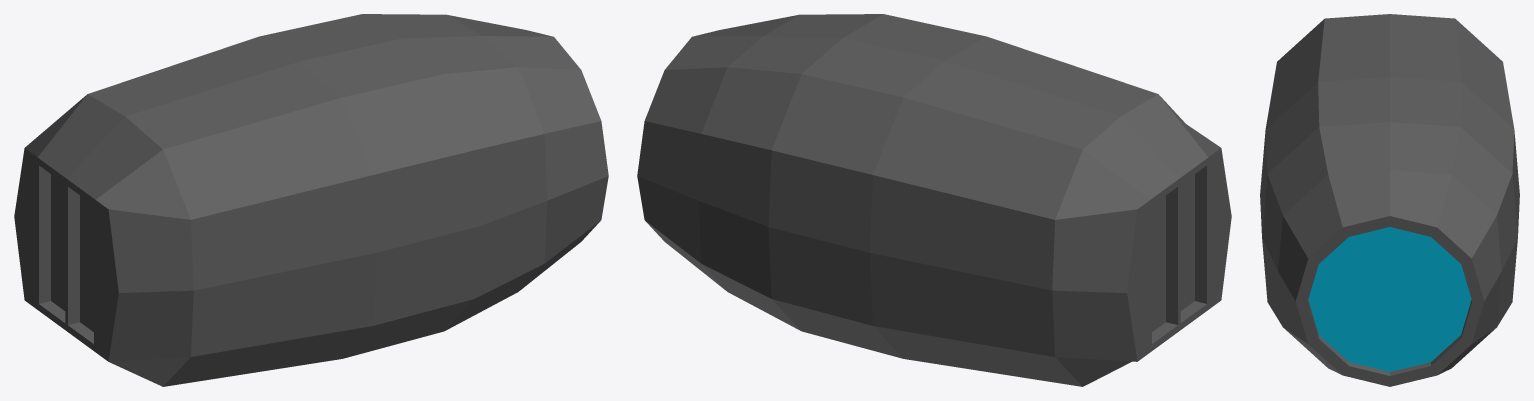
Rendered from SpotlightEngine.fbx.
3 renders of one model, left to right at view 1: azimuth 30°, elevation 25°; view 2: azimuth 150°, elevation 25°; view 3: azimuth 270°, elevation 25°, orthographic. The views are drawn at different scales.
Parts seen in each view (by area): view 1: SpotlightEngine; view 2: SpotlightEngine; view 3: SpotlightEngine.
Part boxes in pixels (x1,y1,x2,y2): SpotlightEngine: [14, 14, 608, 386]; SpotlightEngine: [637, 14, 1231, 386]; SpotlightEngine: [1260, 14, 1519, 386].
Bounding box in the file's own units: 44.15 × 23.63 × 23.63.
